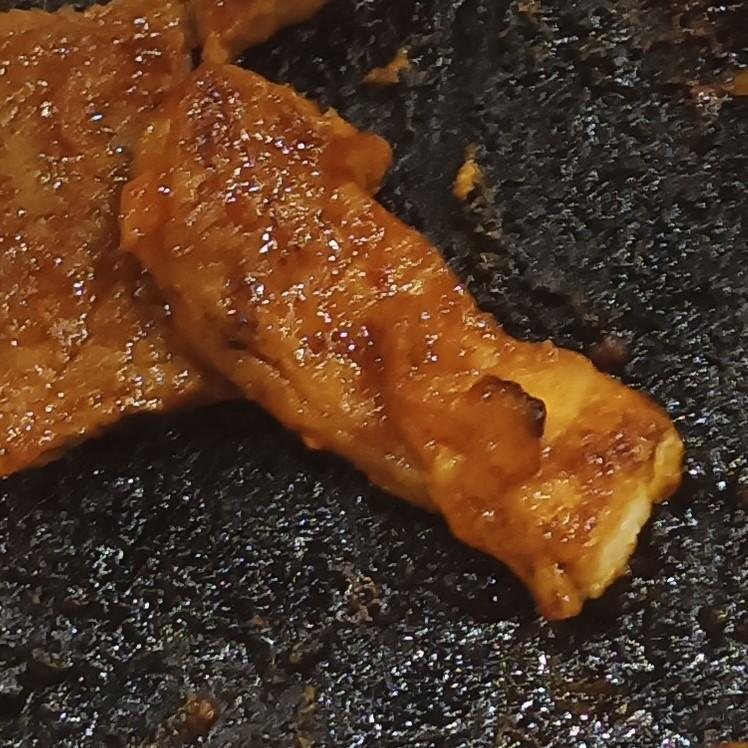Well-Cooked: (120, 65, 687, 624), (0, 0, 333, 480)
